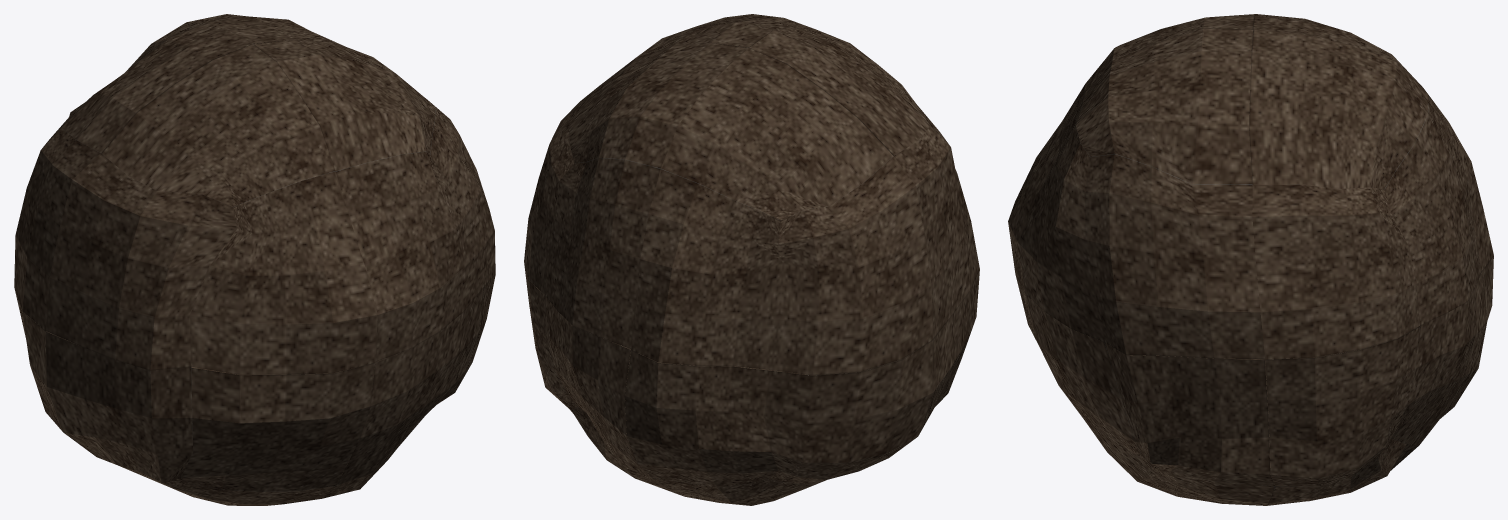
The model's file is SM_EC_Rock_63.fbx.
The picture shows the model from 3 angles, left to right: view 1: azimuth 30°, elevation 25°; view 2: azimuth 150°, elevation 25°; view 3: azimuth 270°, elevation 25°; orthographic projection. The views are drawn at different scales.
Visible parts, largest first — view 1: SM_EC_Rock_63; view 2: SM_EC_Rock_63; view 3: SM_EC_Rock_63.
Part boxes in pixels (x1,y1,x2,y2): SM_EC_Rock_63: [14, 14, 495, 505]; SM_EC_Rock_63: [524, 14, 979, 505]; SM_EC_Rock_63: [1008, 14, 1493, 505].
Size of the model in its own units: 1.84 by 1.88 by 1.95.
